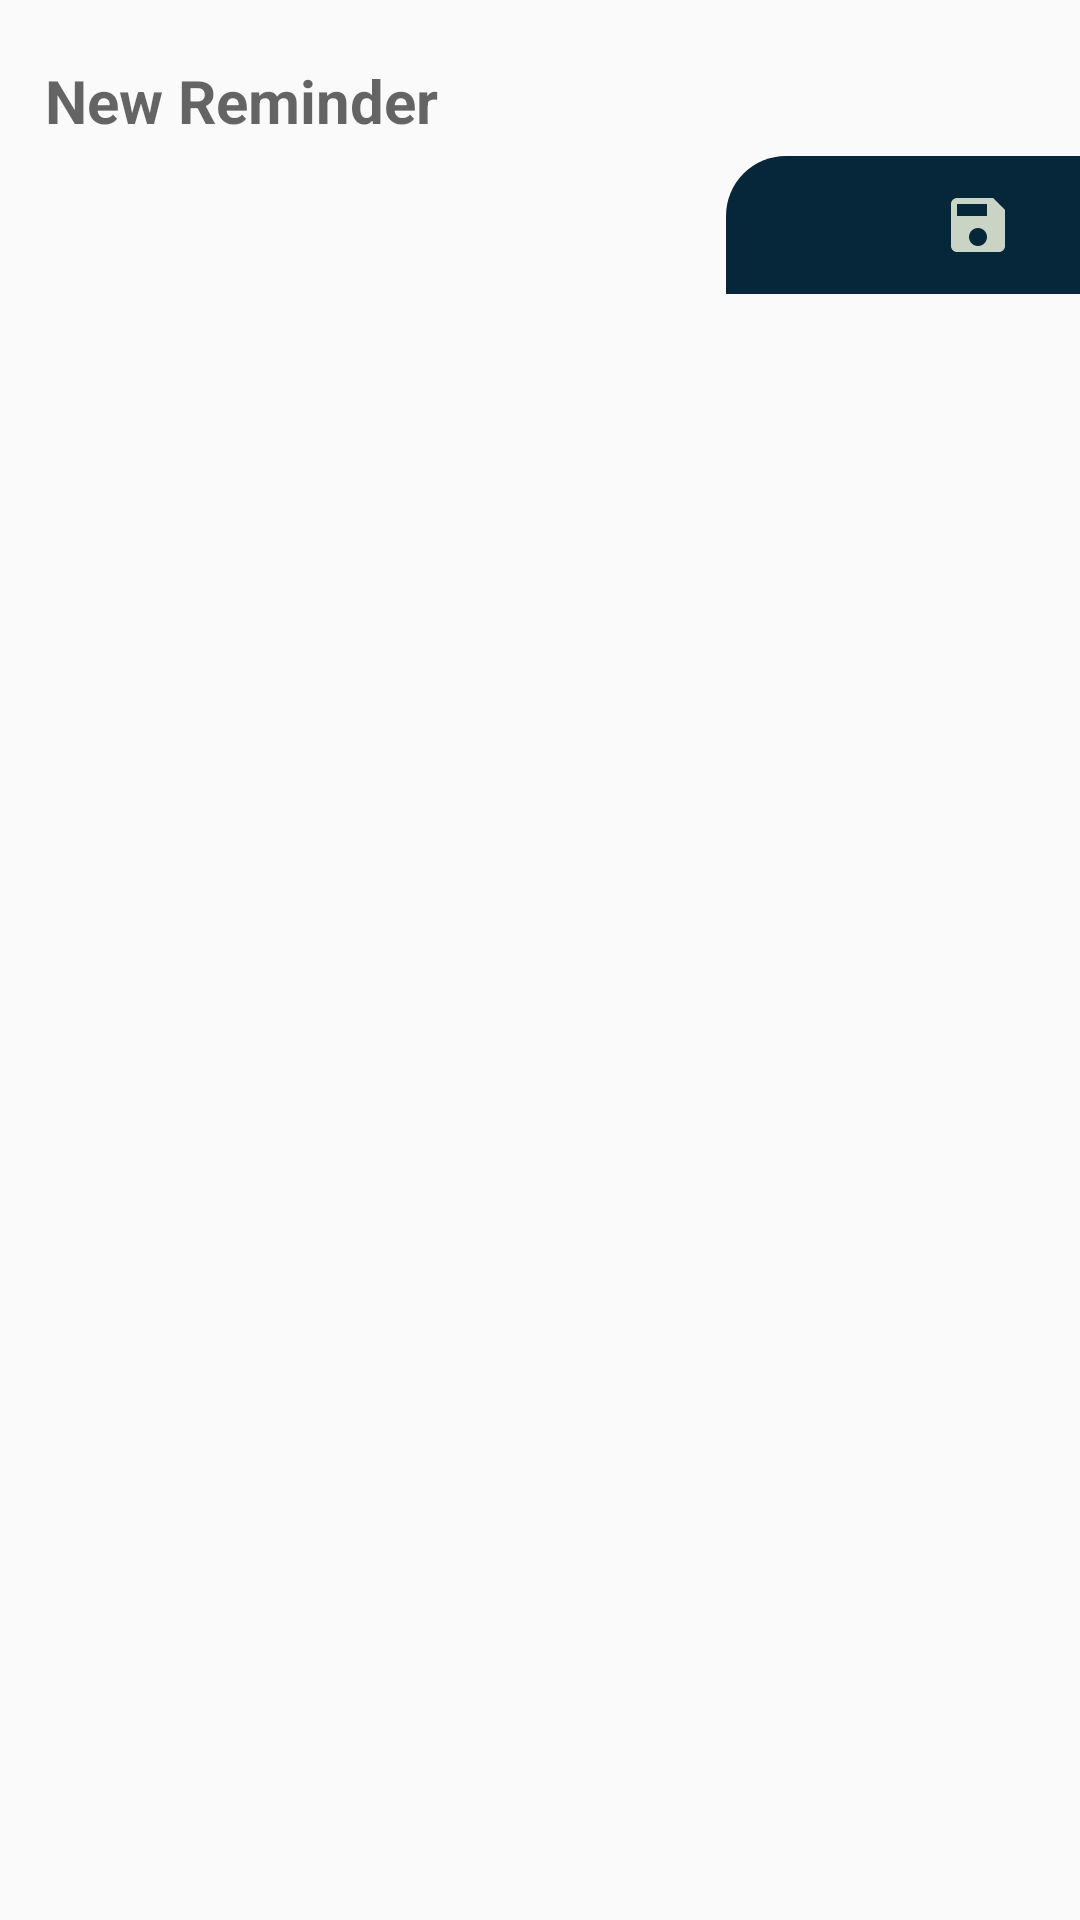

Screen size 1080px x 1920px. Icon name, then its center in pixels as point (x, y):
save veish: point (978, 225)
